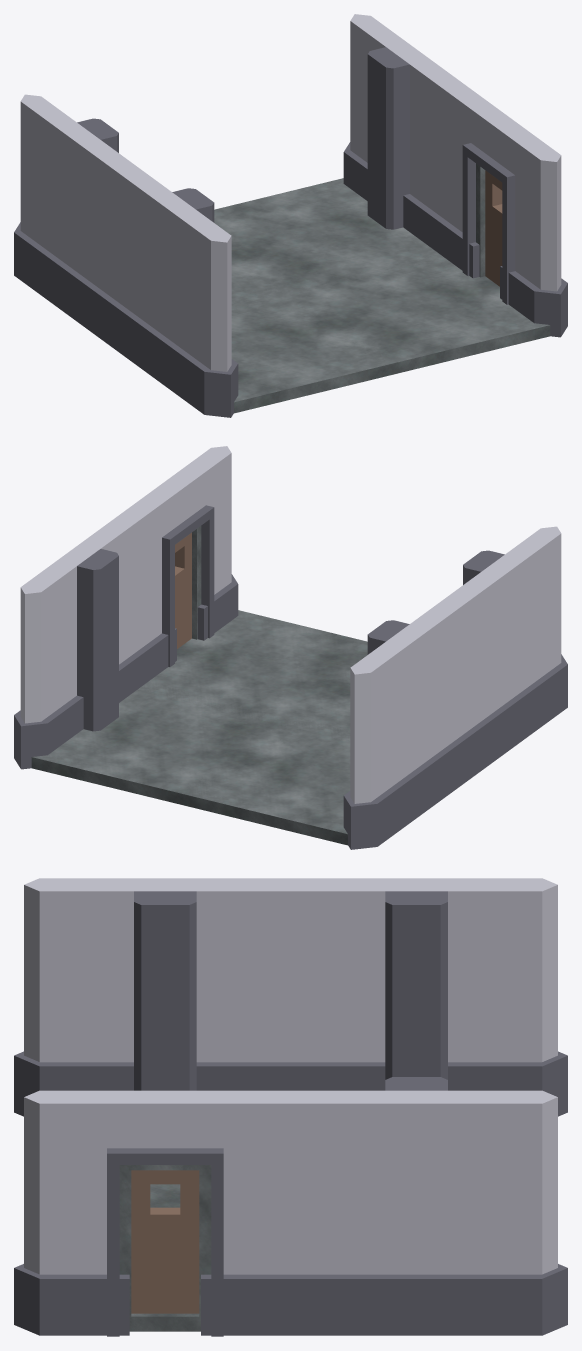
Rendered from hallway_door_02.fbx.
3 views of the same model, one above another, from view 1: azimuth 30°, elevation 25°; view 2: azimuth 150°, elevation 25°; view 3: azimuth 270°, elevation 25° (orthographic). The views are drawn at different scales.
Visible parts, largest first — view 1: floor_01_69, wall_02_73, door_02_75, wall_02_74, wall_02_72; view 2: floor_01_69, wall_02_74, wall_02_72, wall_02_73, door_02_75; view 3: wall_02_72, door_02_75, wall_02_73, wall_02_74, floor_01_69.
Part boxes in pixels (left/top/right/bottom): floor_01_69: left=214, top=178, right=550, bottom=413; wall_02_73: left=109, top=164, right=238, bottom=417; door_02_75: left=439, top=85, right=567, bottom=337; wall_02_74: left=14, top=94, right=135, bottom=344; wall_02_72: left=343, top=14, right=465, bottom=253; floor_01_69: left=31, top=610, right=367, bottom=845; wall_02_74: left=343, top=596, right=472, bottom=849; wall_02_72: left=14, top=516, right=142, bottom=769; wall_02_73: left=446, top=526, right=567, bottom=776; door_02_75: left=116, top=446, right=238, bottom=685; wall_02_72: left=275, top=1077, right=567, bottom=1335; door_02_75: left=14, top=1090, right=302, bottom=1336; wall_02_73: left=14, top=878, right=305, bottom=1116; wall_02_74: left=277, top=878, right=567, bottom=1116; floor_01_69: left=129, top=1184, right=200, bottom=1331.
Bounding box in the file's own units: 22.15 × 10 × 22.05.
